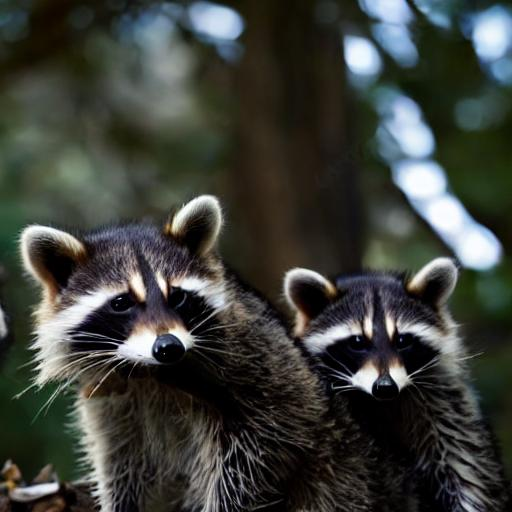raccoon: (14, 189, 372, 512), (278, 250, 502, 512)
